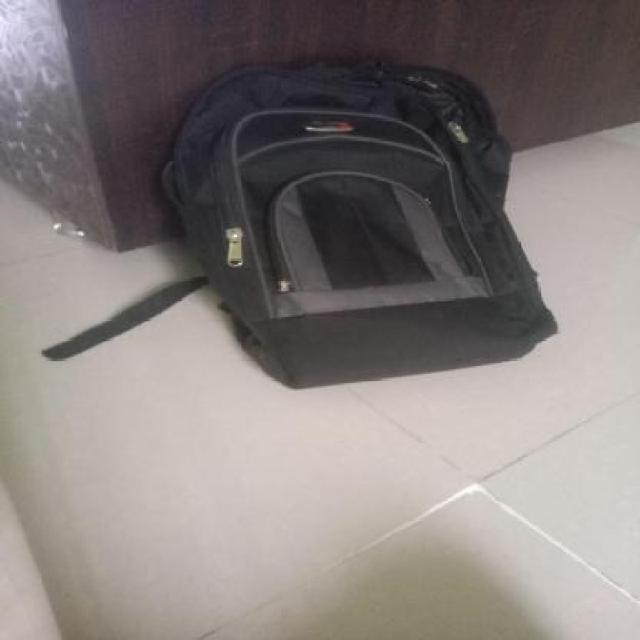backpack: (152, 54, 566, 395)
